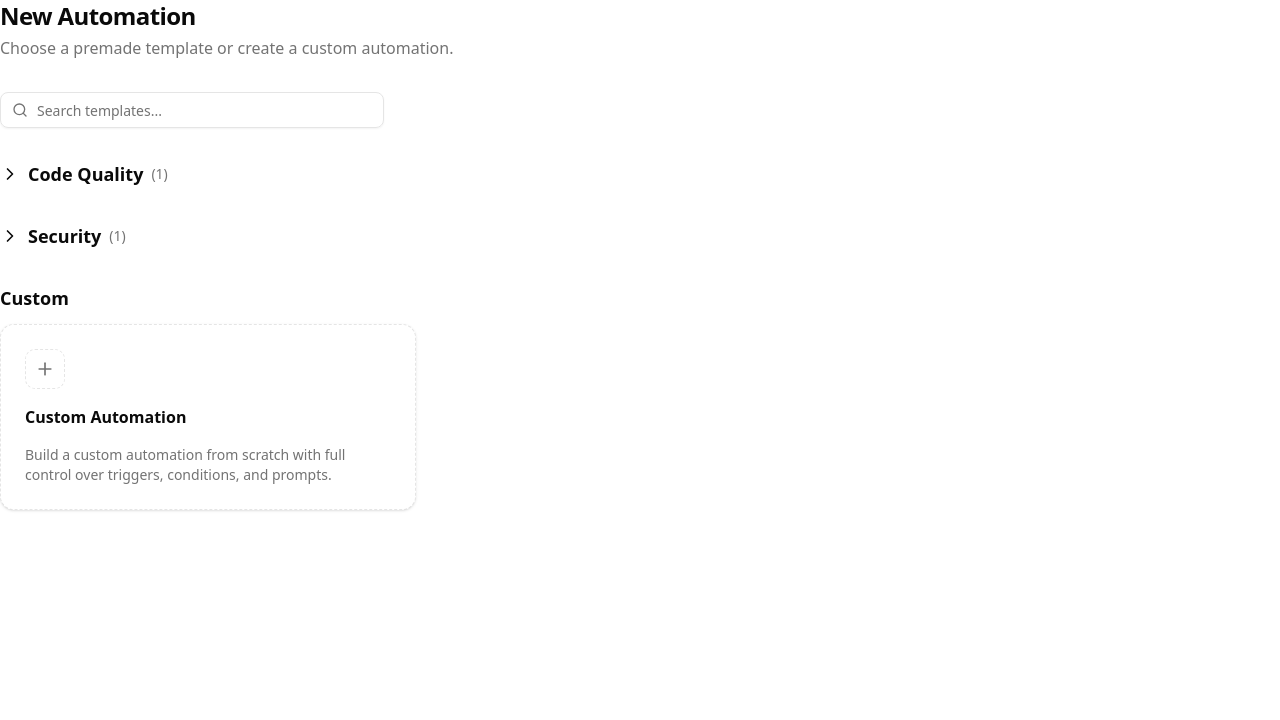
Test case: AutomationNewPage › should close dialog when cancel is clicked
The width and height of the screenshot is (1280, 720).
# Expand category first
Click the text "Code Quality" at (86, 174), box [28,160,143,188]
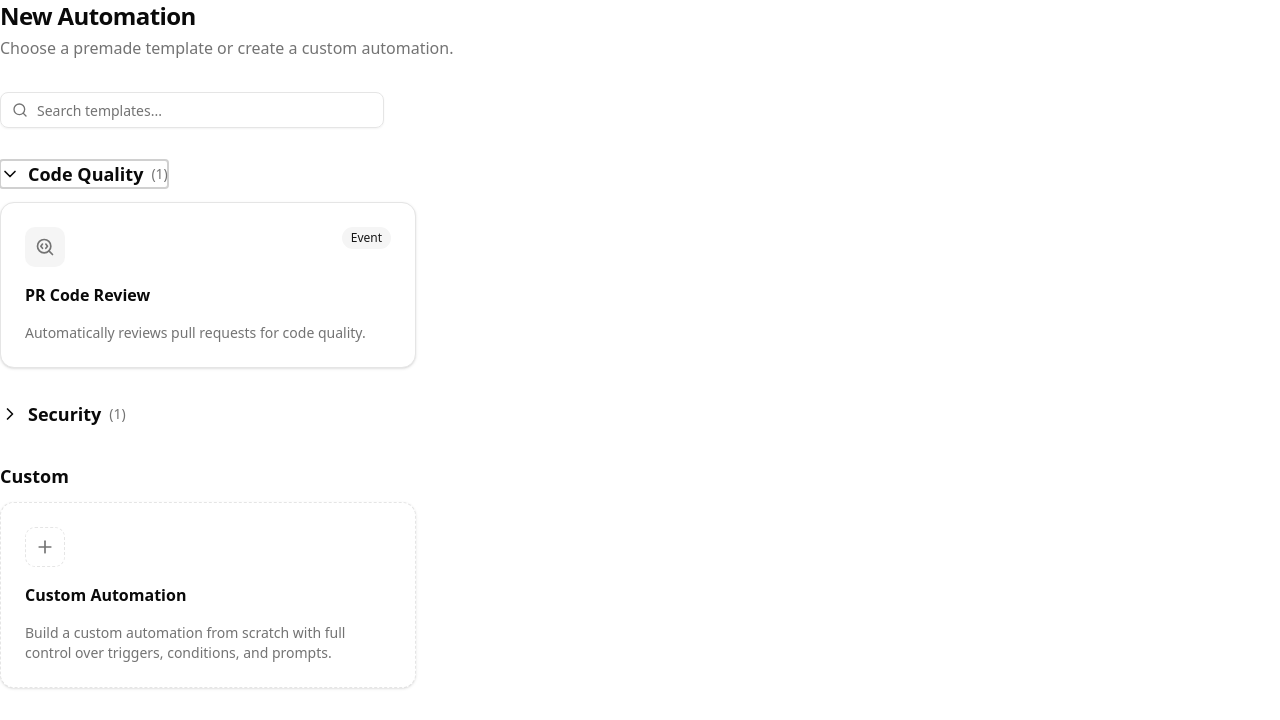
Click the text "PR Code Review" at (88, 295), box [25,284,150,306]
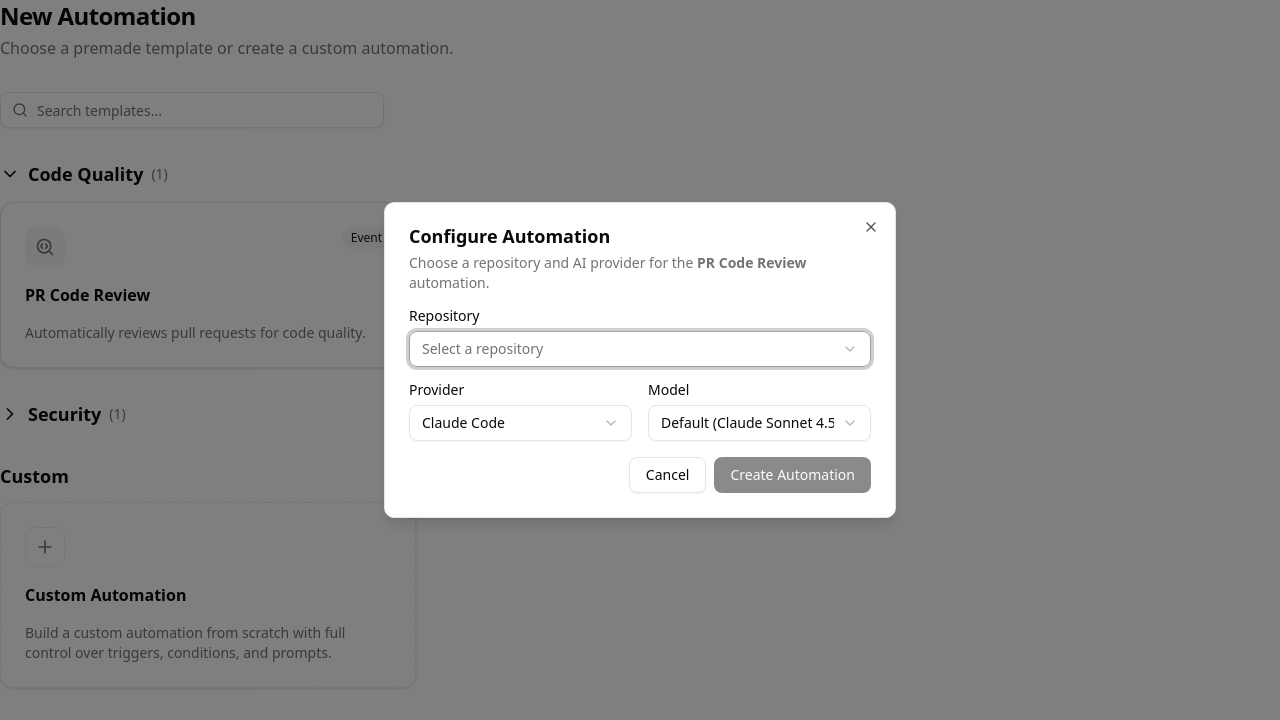
Check: the heading "Configure Automation" is shown, box [409,224,610,248]
Click the button "Cancel" at (668, 475), box [629,457,706,493]
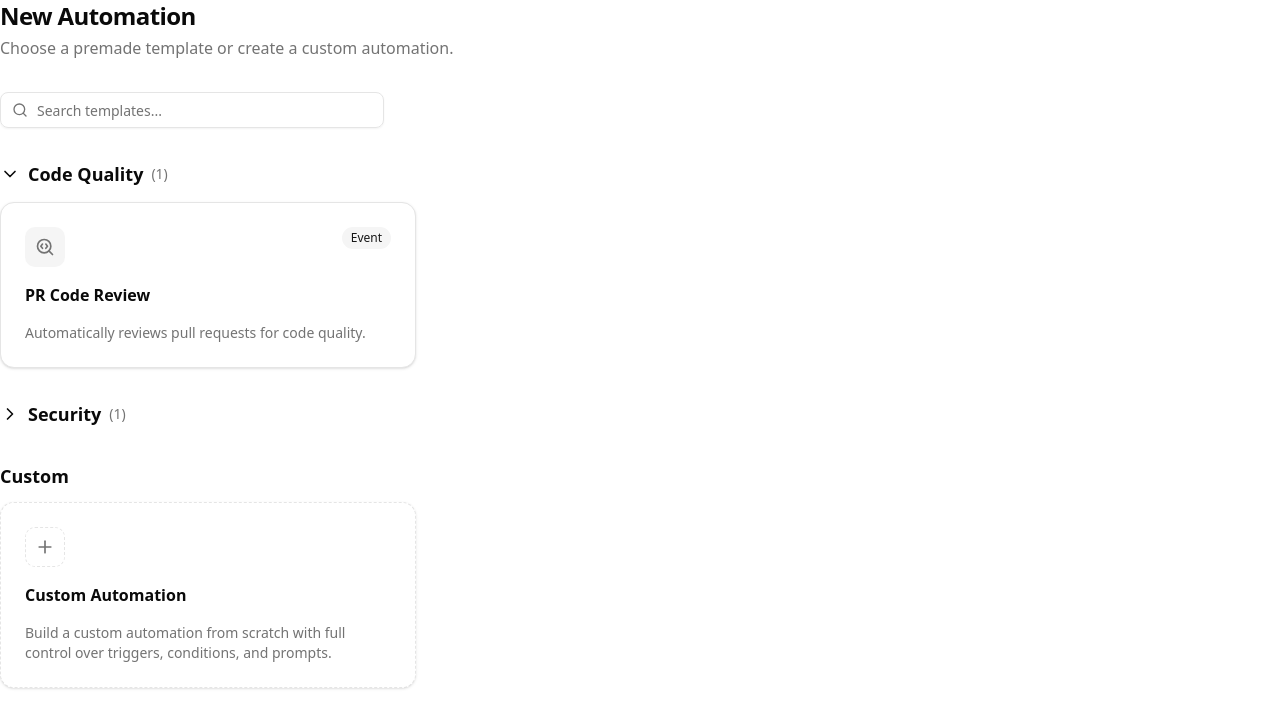
Check: the heading "Configure Automation" is gone
